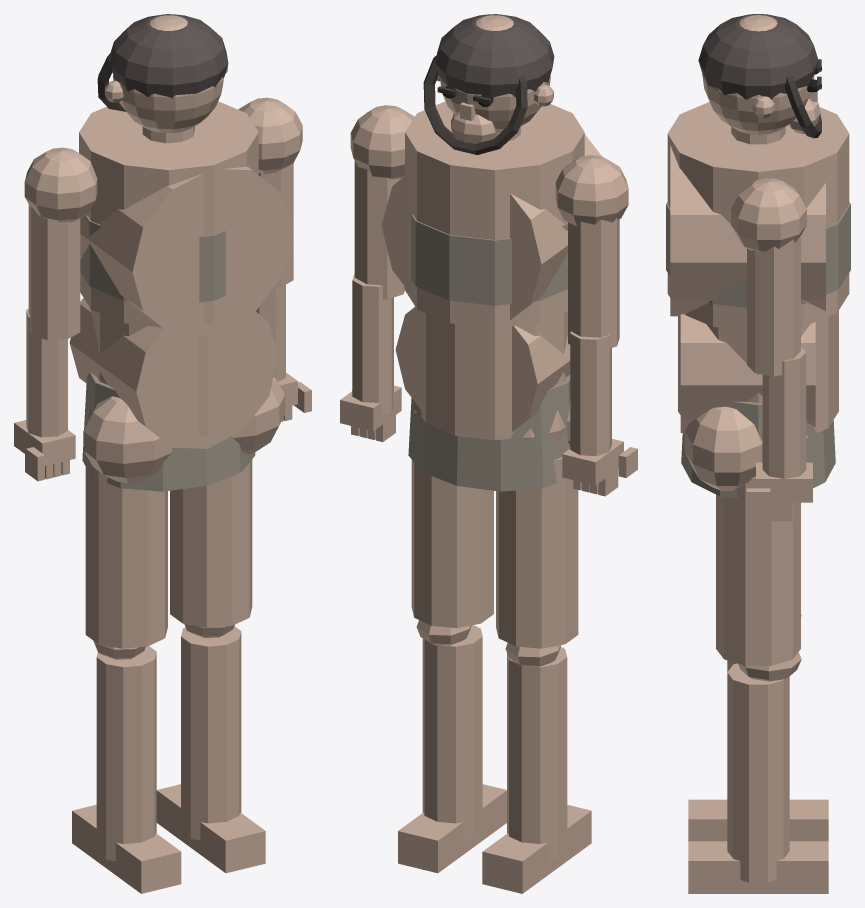
Rendered from character_base.glb.
3 views of the same model, side by side, from view 1: azimuth 30°, elevation 25°; view 2: azimuth 150°, elevation 25°; view 3: azimuth 270°, elevation 25° (orthographic).
Visible parts, largest first — view 1: zone_BACK_UPPER, zone_BACK_LOWER, zone_CHEST_UPPER, zone_THIGH_L, zone_THIGH_R, zone_CALF_R, zone_CALF_L, zone_HEAD_SCALP, zone_UPPER_ARM_L, zone_GLUTE, underwear_briefs, zone_SHOULDER_L (+11 smaller); view 2: zone_CHEST_UPPER, zone_THIGH_L, zone_THIGH_R, zone_CALF_R, zone_CALF_L, zone_CHEST_LOWER, underwear_briefs, zone_BACK_UPPER, underwear_chest_band, zone_HEAD_SCALP, zone_UPPER_ARM_L, zone_BACK_LOWER (+14 smaller); view 3: zone_CHEST_UPPER, zone_THIGH_R, zone_CALF_R, zone_BACK_UPPER, zone_HEAD_SCALP, zone_BACK_LOWER, zone_UPPER_ARM_R, zone_FOOT_R, zone_GLUTE.001, zone_FOREARM_R, zone_SHOULDER_R, zone_CHEST_LOWER (+12 smaller).
Part boxes in pixels (x1,y1,x2,y2): zone_BACK_UPPER: [80, 166, 292, 336]; zone_BACK_LOWER: [69, 298, 278, 448]; zone_CHEST_UPPER: [79, 101, 258, 327]; zone_THIGH_L: [85, 455, 167, 648]; zone_THIGH_R: [170, 459, 252, 627]; zone_CALF_R: [181, 626, 241, 840]; zone_CALF_L: [96, 646, 156, 861]; zone_HEAD_SCALP: [110, 14, 228, 98]; zone_UPPER_ARM_L: [28, 204, 80, 340]; zone_GLUTE: [83, 396, 171, 483]; underwear_briefs: [82, 372, 255, 491]; zone_SHOULDER_L: [24, 147, 97, 222]; zone_CHEST_UPPER: [405, 101, 584, 328]; zone_THIGH_L: [496, 457, 578, 648]; zone_THIGH_R: [411, 460, 493, 627]; zone_CALF_R: [422, 625, 482, 840]; zone_CALF_L: [507, 647, 567, 861]; zone_CHEST_LOWER: [421, 311, 567, 440]; underwear_briefs: [408, 375, 570, 491]; zone_BACK_UPPER: [381, 134, 602, 320]; underwear_chest_band: [411, 214, 567, 305]; zone_HEAD_SCALP: [435, 14, 554, 97]; zone_UPPER_ARM_L: [568, 218, 619, 348]; zone_BACK_LOWER: [395, 307, 570, 431]; zone_CHEST_UPPER: [667, 102, 849, 330]; zone_THIGH_R: [716, 477, 800, 665]; zone_CALF_R: [727, 663, 789, 882]; zone_BACK_UPPER: [670, 145, 825, 316]; zone_HEAD_SCALP: [698, 14, 818, 99]; zone_BACK_LOWER: [680, 314, 815, 432]; zone_UPPER_ARM_R: [747, 235, 800, 376]; zone_FOOT_R: [688, 841, 828, 893]; zone_GLUTE.001: [684, 406, 762, 490]; zone_FOREARM_R: [762, 347, 806, 478]; zone_SHOULDER_R: [731, 178, 806, 251]; zone_CHEST_LOWER: [678, 310, 838, 432].
Size of the model in its own units: 0.617 by 1.8 by 0.356.
